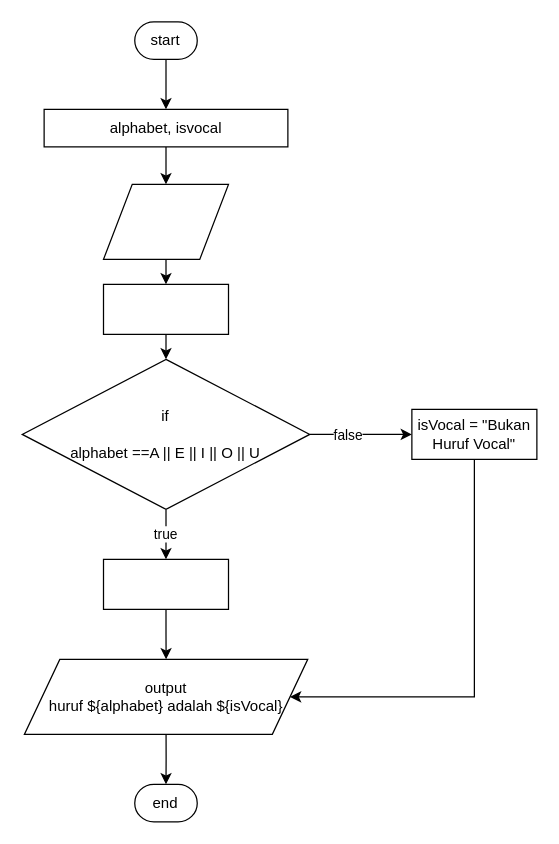
Some shapes in this 559 by 844 pixel diagram are drawn without their labels. Here are the shapes that lost their labels. From the top down, the centre of each, then its label:
the point at 165,221: input alphabet
the point at 165,308: alphabet to uppercase
the point at 165,583: isVocal = "Huruf Vocal"
